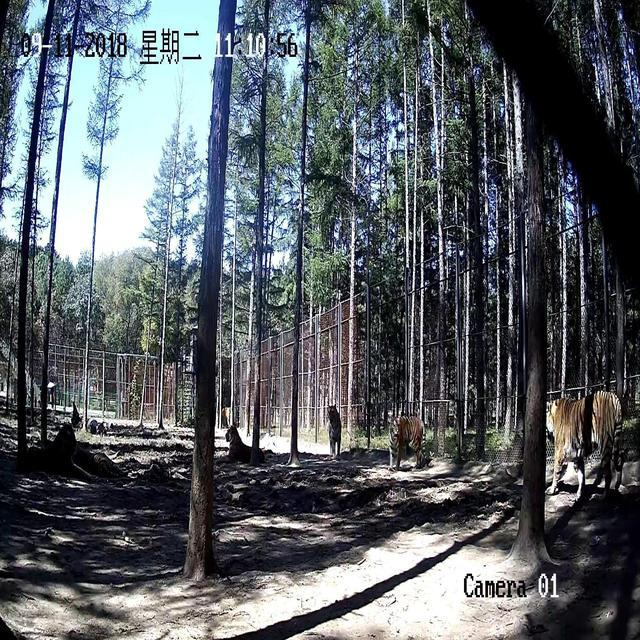tiger: (546, 389, 623, 499), (48, 421, 126, 479), (388, 414, 425, 470), (223, 423, 265, 464), (325, 404, 341, 458), (69, 400, 83, 429), (220, 405, 232, 428)
